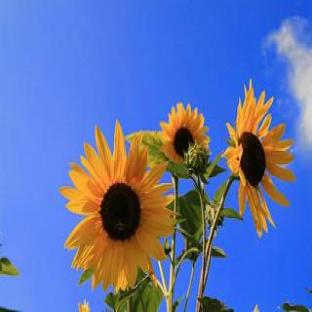sunflower: (58, 120, 176, 312), (206, 79, 296, 256)
